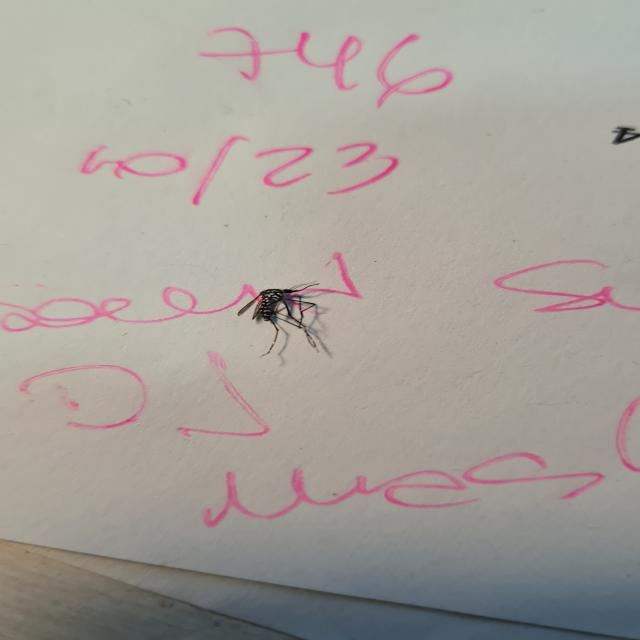albopictus: (230, 275, 336, 362)
